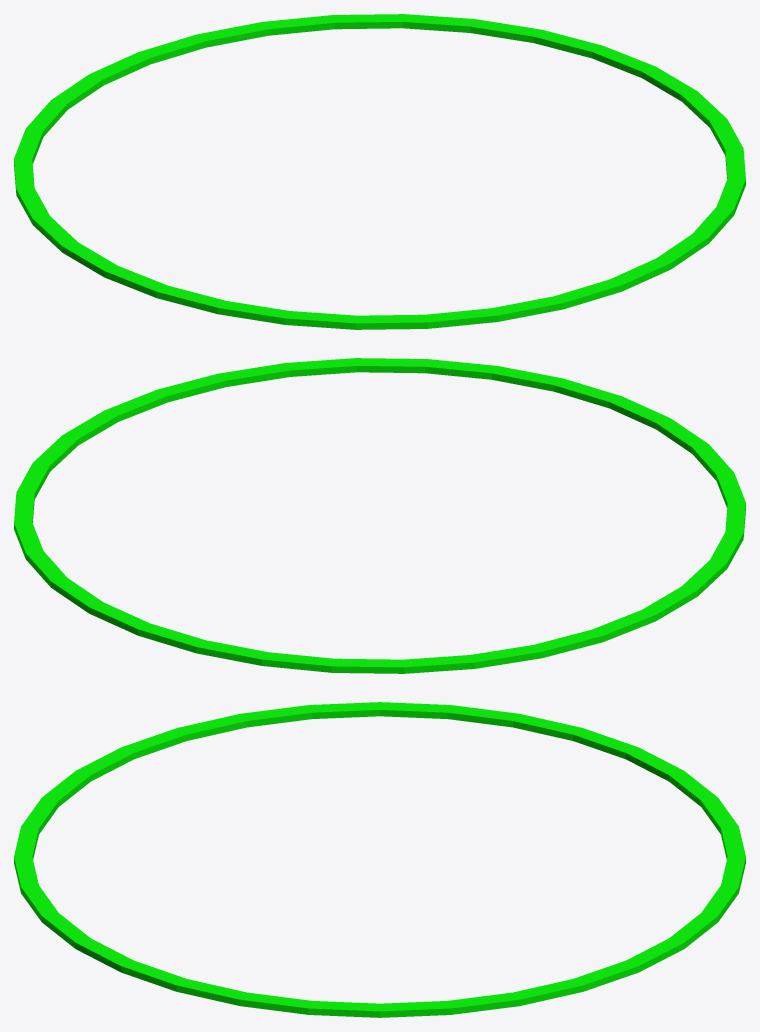
File: gizmo_y.obj
3 renders of one model, top to bottom at view 1: azimuth 30°, elevation 25°; view 2: azimuth 150°, elevation 25°; view 3: azimuth 270°, elevation 25°, orthographic.
Visible parts, largest first — view 1: Cylinder; view 2: Cylinder; view 3: Cylinder.
Boxes of the visible parts, bbox=[...] form: Cylinder: bbox=[14, 14, 745, 329]; Cylinder: bbox=[14, 358, 745, 673]; Cylinder: bbox=[14, 702, 745, 1017].
Bounding box in the file's own units: 2 × 0.0195 × 2.
